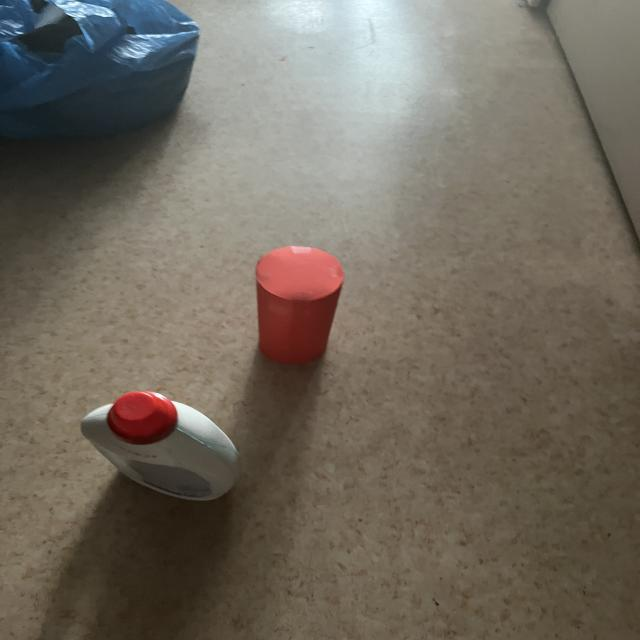przeszkoda: (255, 246, 344, 364)
